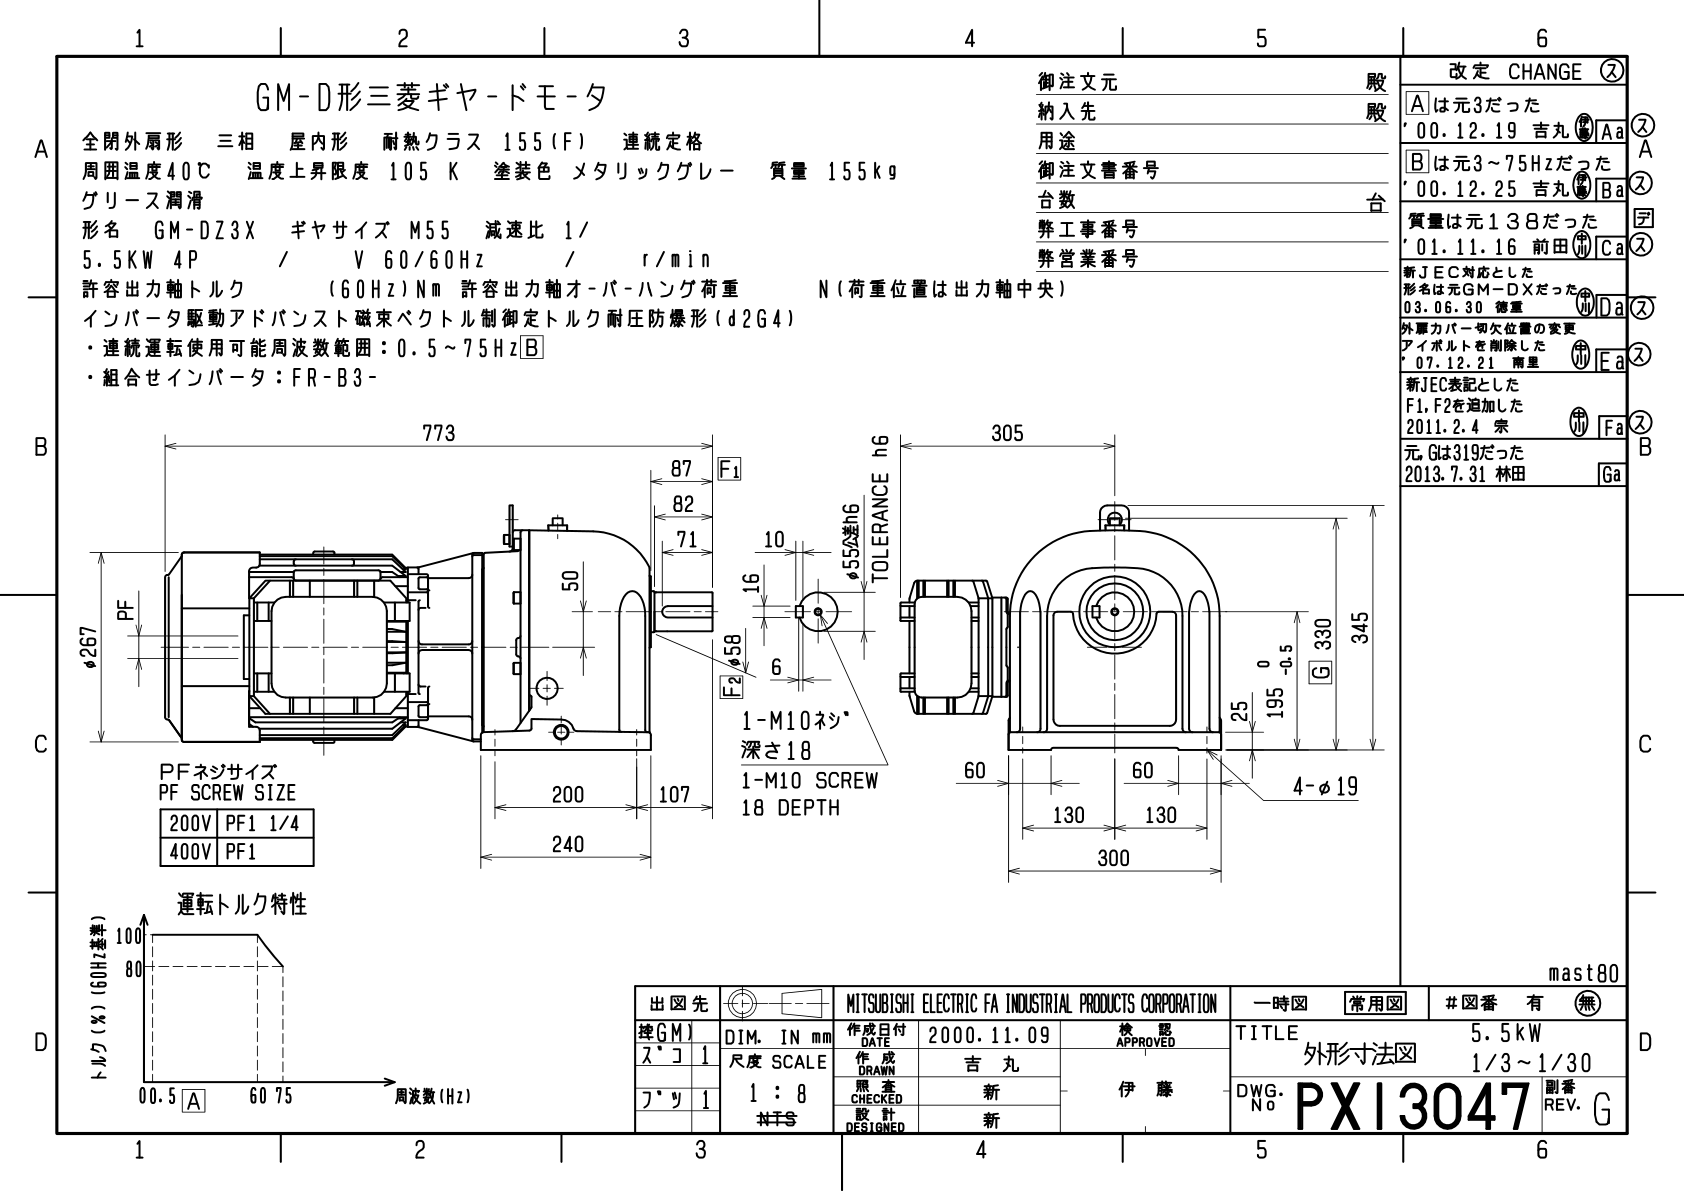GM_D_制御屋内_三相_脚: (61, 406, 1392, 967)
